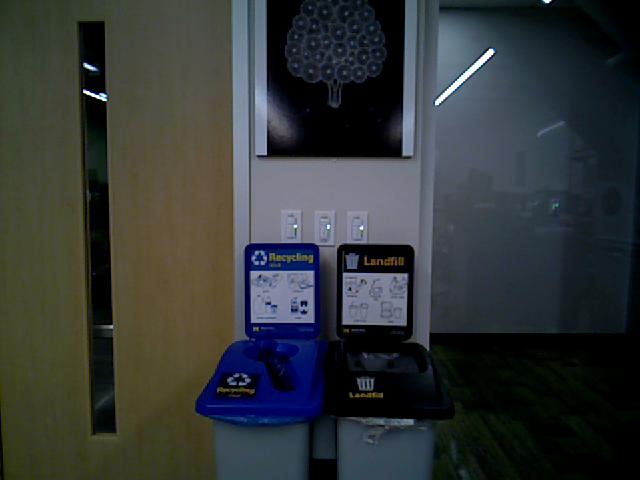painting1: (253, 1, 412, 154)
